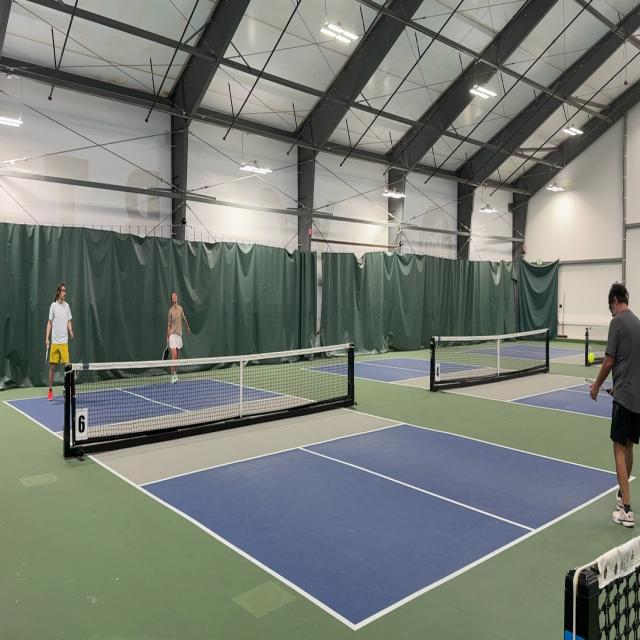ball: (588, 351, 595, 365)
